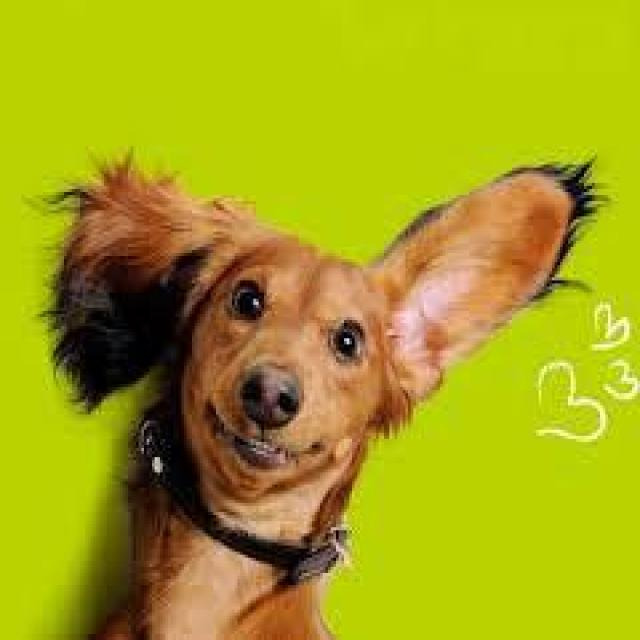Dog: (38, 145, 620, 508)
